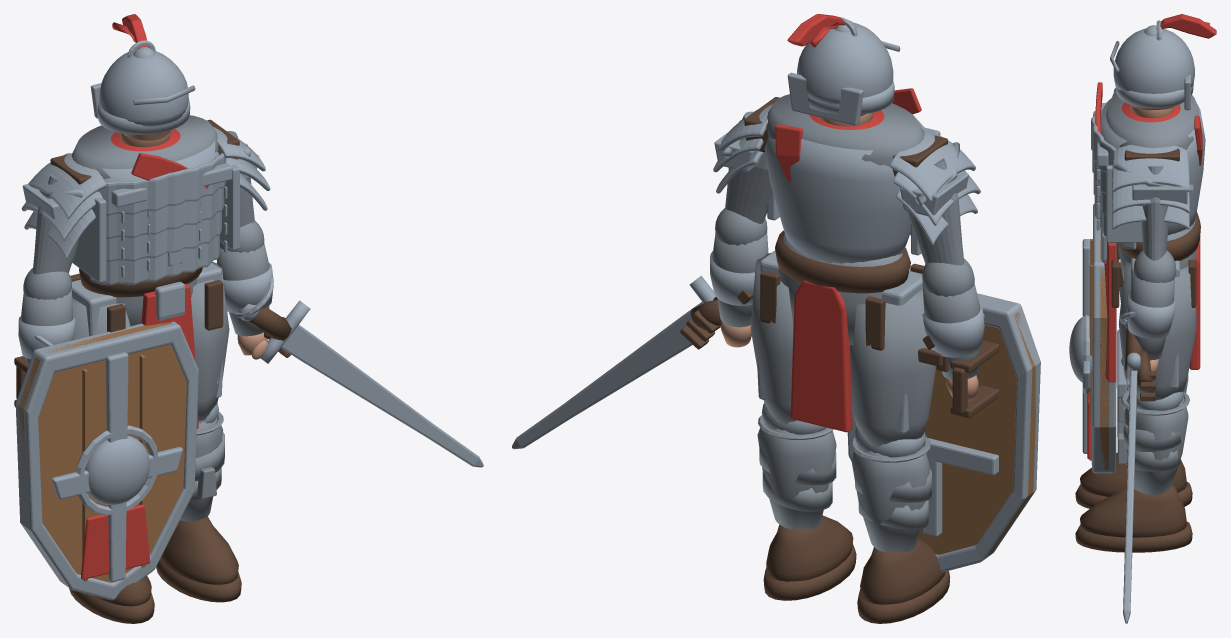
Rendered from SK_Infantry_A_v004_P035R1_L1Pose_Review.fbx.
3 views of the same model, side by side, from view 1: azimuth 30°, elevation 25°; view 2: azimuth 150°, elevation 25°; view 3: azimuth 270°, elevation 25° (orthographic). The views are drawn at different scales.
Visible parts, largest first — view 1: Shield, Shield_Rim, Helmet, Sword, Boot_R, Body_Base, Shield_Boss, ChestArmor_Lamellar_4, Shield_Reinforcement_V, Thigh_R, GEO_Infantry_ChestArmor_SideReturns, GEO_Infantry_Shield_TeamPanel (+35 smaller); view 2: ChestArmor, Shield, Thigh_L, WaistCloth_Rear_P02R1, Shield_Rim, Helmet, Calf_L, Body_Base, Calf_R, Sword, Thigh_R, Boot_R (+32 smaller); view 3: Helmet, Boot_R, Thigh_R, Shield_Rim, Body_Base, ShoulderArmor_R_1, Calf_R, Sword, BootSole_R, ChestArmor, Shield, Forearm_R (+44 smaller).
Part boxes in pixels (left/top/right/bottom): Shield: left=18, top=322, right=186, bottom=582; Shield_Rim: left=15, top=321, right=198, bottom=600; Helmet: left=99, top=51, right=188, bottom=126; Sword: left=281, top=325, right=483, bottom=467; Boot_R: left=160, top=516, right=238, bottom=584; Body_Base: left=71, top=115, right=218, bottom=179; Shield_Boss: left=85, top=435, right=149, bottom=505; ChestArmor_Lamellar_4: left=98, top=153, right=226, bottom=215; Shield_Reinforcement_V: left=105, top=352, right=128, bottom=581; Thigh_R: left=191, top=262, right=229, bottom=421; GEO_Infantry_ChestArmor_SideReturns: left=72, top=164, right=239, bottom=282; GEO_Infantry_Shield_TeamPanel: left=81, top=504, right=150, bottom=579; ChestArmor: left=764, top=137, right=910, bottom=263; Shield: left=918, top=312, right=1035, bottom=555; Thigh_L: left=850, top=289, right=936, bottom=447; WaistCloth_Rear_P02R1: left=790, top=280, right=852, bottom=432; Shield_Rim: left=847, top=293, right=1040, bottom=572; Helmet: left=797, top=23, right=893, bottom=104; Calf_L: left=851, top=446, right=930, bottom=552; Body_Base: left=767, top=94, right=924, bottom=263; Calf_R: left=757, top=423, right=836, bottom=529; Sword: left=512, top=302, right=720, bottom=449; Thigh_R: left=750, top=252, right=796, bottom=424; Boot_R: left=766, top=515, right=853, bottom=581; Helmet: left=1113, top=28, right=1194, bottom=93; Boot_R: left=1080, top=484, right=1186, bottom=537; Thigh_R: left=1118, top=261, right=1196, bottom=400; Shield_Rim: left=1091, top=203, right=1116, bottom=473; Body_Base: left=1106, top=92, right=1199, bottom=149; ShoulderArmor_R_1: left=1112, top=144, right=1189, bottom=192; Calf_R: left=1124, top=394, right=1188, bottom=495; Sword: left=1123, top=370, right=1137, bottom=623; BootSole_R: left=1075, top=521, right=1192, bottom=552; ChestArmor: left=1100, top=98, right=1205, bottom=235; Shield: left=1099, top=229, right=1109, bottom=473; Forearm_R: left=1130, top=273, right=1174, bottom=360.
Bounding box in the file's own units: 1.65 × 1.82 × 0.4799.
